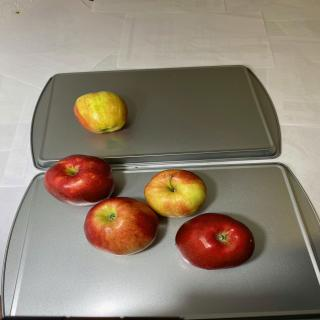Apple: (175, 212, 255, 270), (83, 197, 159, 256), (43, 154, 115, 207), (144, 169, 206, 218), (73, 91, 128, 134)
